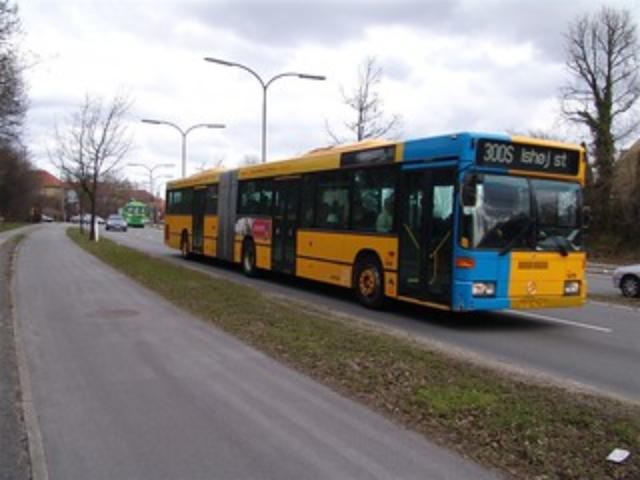bus: (160, 132, 586, 316)
car: (106, 208, 128, 234)
